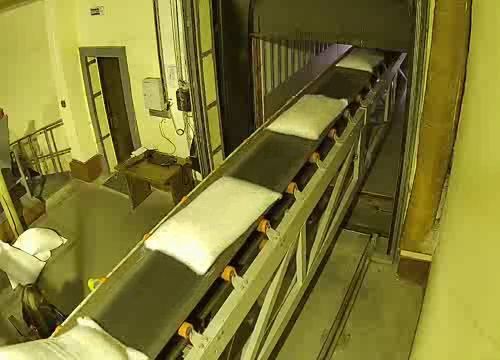bag: (136, 171, 284, 279), (0, 310, 158, 360), (262, 90, 351, 142), (333, 46, 391, 75)
